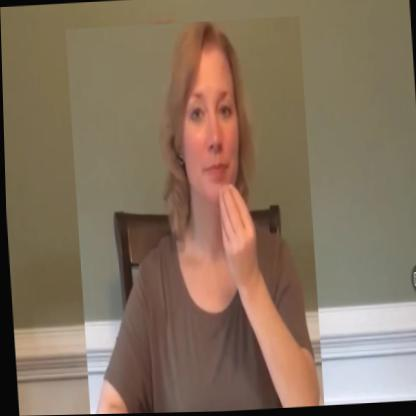Food: (66, 17, 322, 415)
